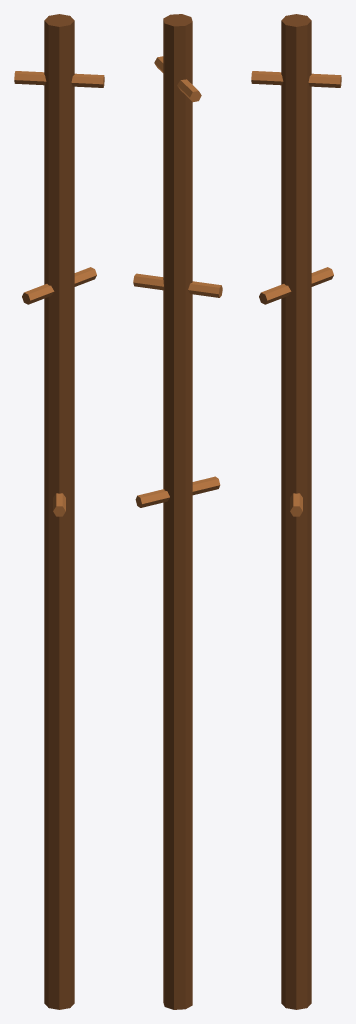
The model's file is bird_perch_tall.fbx.
The picture shows the model from 3 angles, left to right: view 1: azimuth 90°, elevation 25°; view 2: azimuth 210°, elevation 25°; view 3: azimuth 270°, elevation 25°; orthographic projection.
Visible parts, largest first — view 1: bird_perch_tall; view 2: bird_perch_tall; view 3: bird_perch_tall.
Boxes of the visible parts, x1=… form: bird_perch_tall: x1=14, y1=14, x2=104, y2=1009; bird_perch_tall: x1=133, y1=14, x2=222, y2=1009; bird_perch_tall: x1=251, y1=14, x2=341, y2=1009.
Bounding box in the file's own units: 0.5 × 6 × 0.5.
